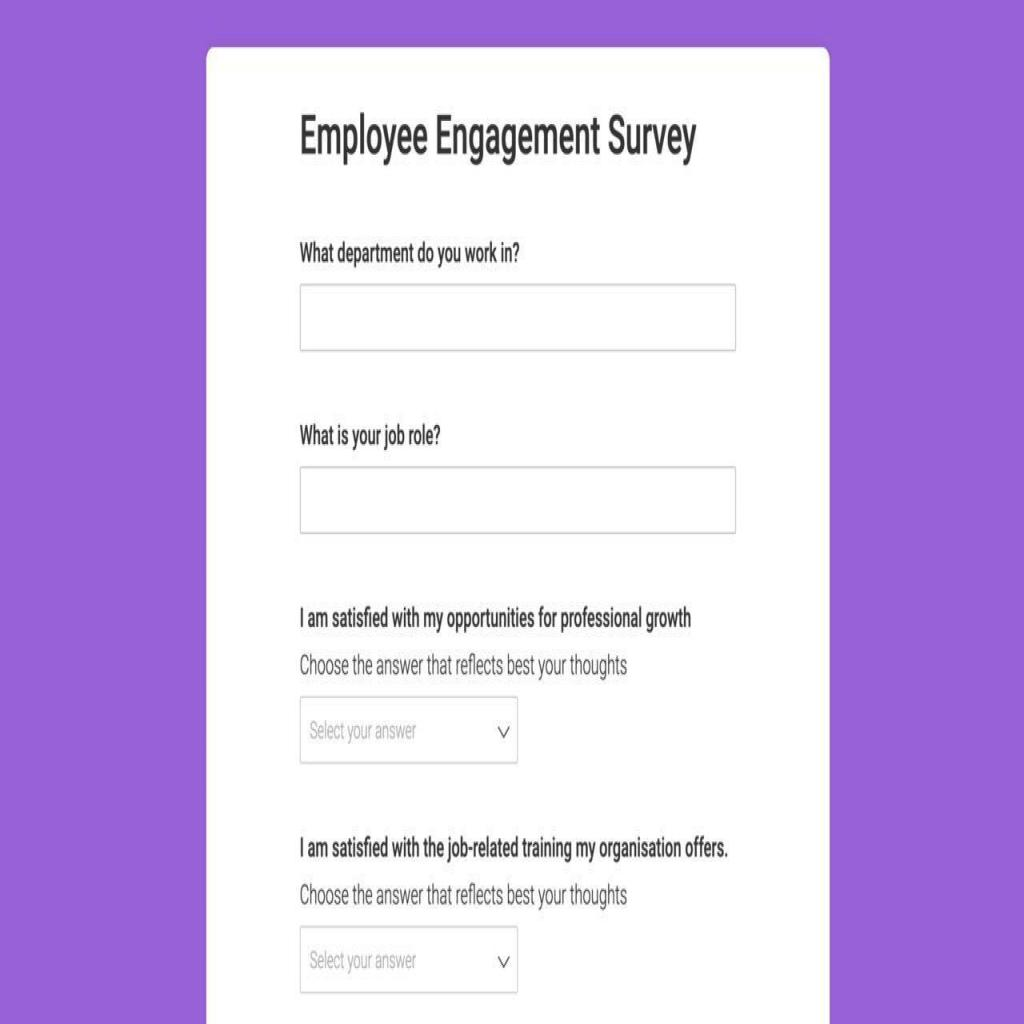dropdown: (298, 692, 516, 763), (300, 922, 517, 993)
input: (298, 280, 736, 352), (298, 464, 737, 532)
label: (294, 598, 704, 684), (292, 103, 708, 173), (295, 230, 523, 269), (292, 409, 452, 459)
